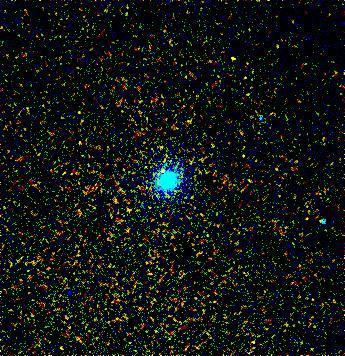star: (147, 154, 177, 184)
